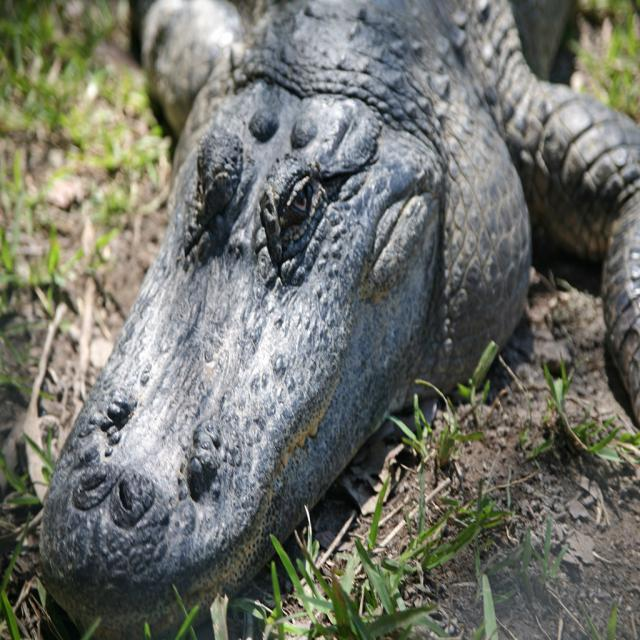crocodile: (15, 0, 639, 639)
